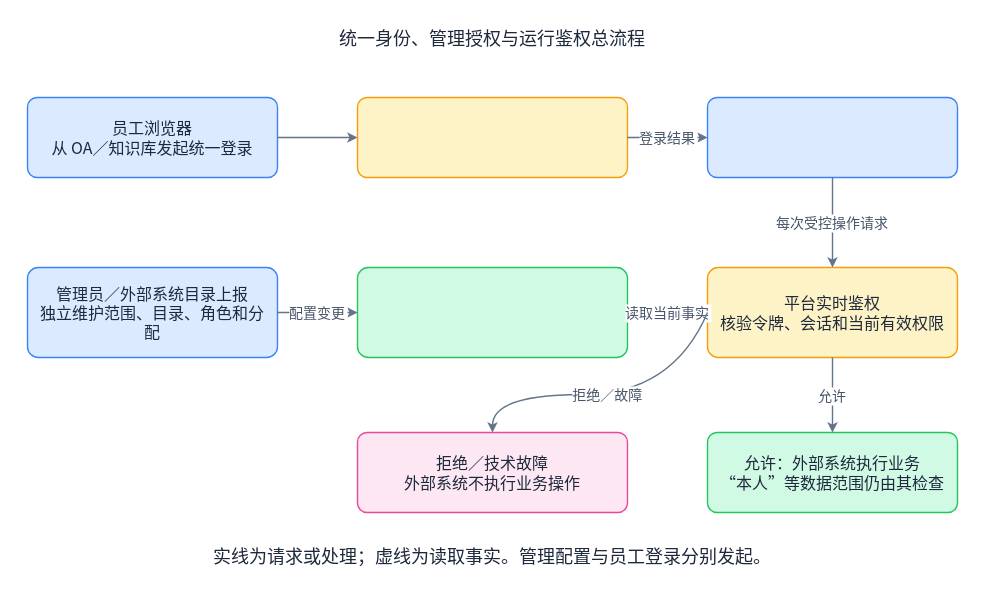
Image size: 984x590. Some labels were removed from this diagram. Each missing label, with the box of its shape:
外部系统后端 验证登录结果；准备受控操作: (706, 96, 958, 178)
平台当前权限事实 成功变更与审计共同提交: (356, 266, 628, 358)
统一认证平台 校验身份并建立统一会话: (356, 96, 628, 178)
